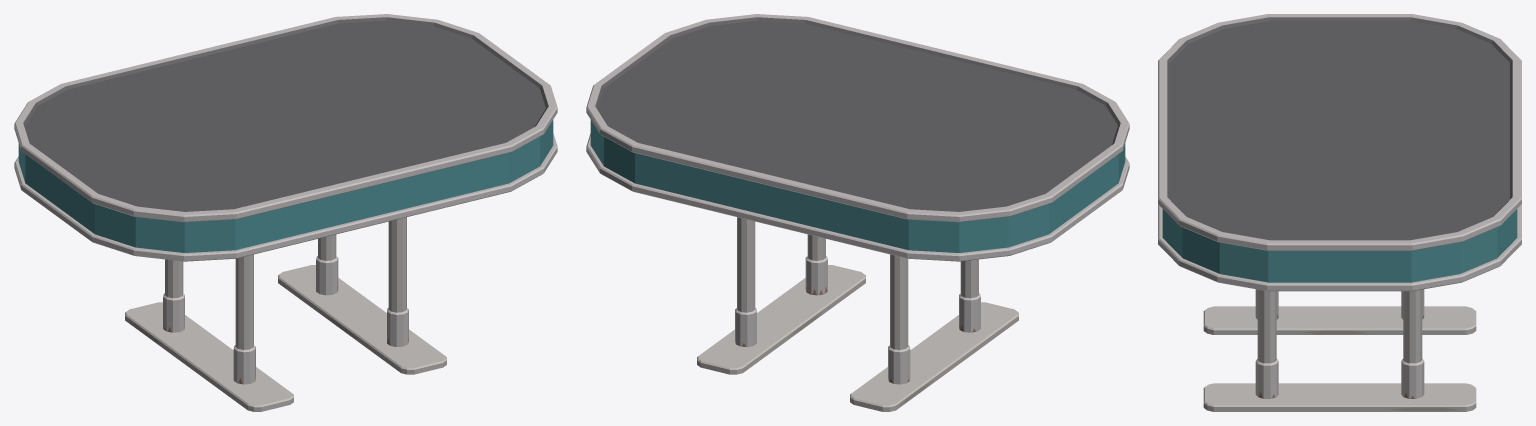
The model's file is pump-island-canopy-c3aa62.glb.
The picture shows the model from 3 angles, left to right: view 1: azimuth 30°, elevation 25°; view 2: azimuth 150°, elevation 25°; view 3: azimuth 270°, elevation 25°; orthographic projection. The views are drawn at different scales.
Parts seen in each view (by area): view 1: canopy; view 2: canopy; view 3: canopy.
Part boxes in pixels (bbox=[...]): canopy: bbox=[14, 14, 557, 411]; canopy: bbox=[586, 14, 1129, 411]; canopy: bbox=[1158, 14, 1521, 411].
Size of the model in its own units: 12 by 5.66 by 8.
